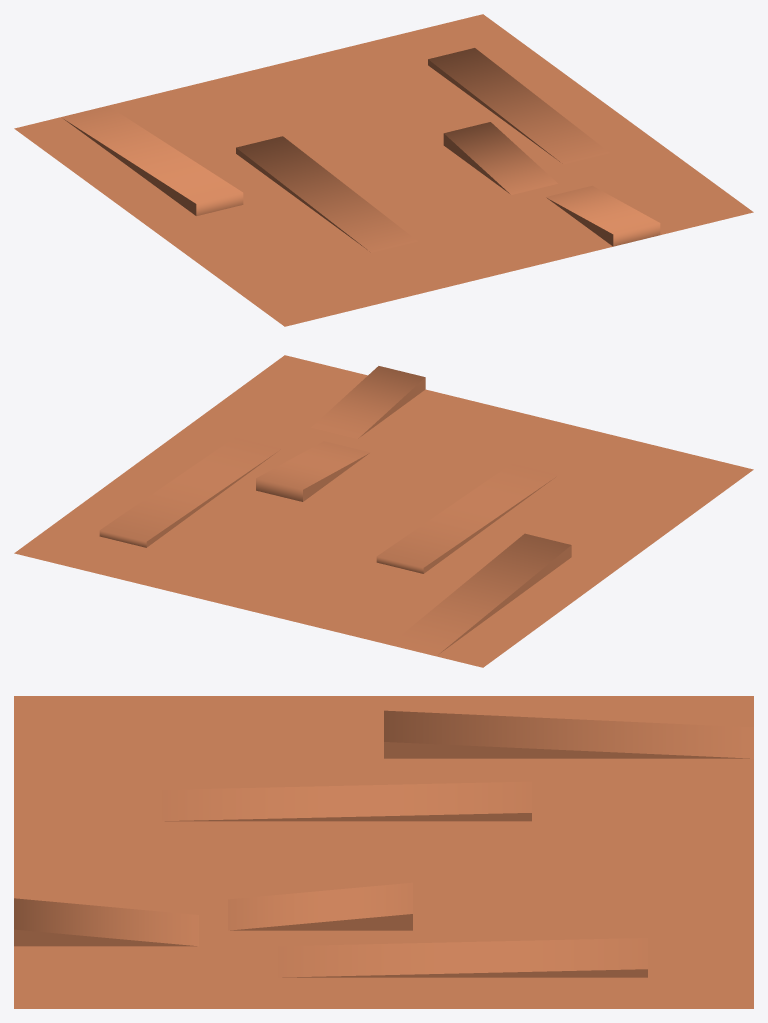
File: floor-wood.fbx
3 renders of one model, top to bottom at view 1: azimuth 30°, elevation 25°; view 2: azimuth 150°, elevation 25°; view 3: azimuth 270°, elevation 25°, orthographic. The views are drawn at different scales.
Visible parts, largest first — view 1: floor-wood; view 2: floor-wood; view 3: floor-wood.
Boxes of the visible parts, x1,y1,x2,y2 form: floor-wood: [14, 14, 753, 326]; floor-wood: [14, 355, 753, 667]; floor-wood: [14, 696, 753, 1008].
Size of the model in its own units: 10 by 0.25 by 10.
